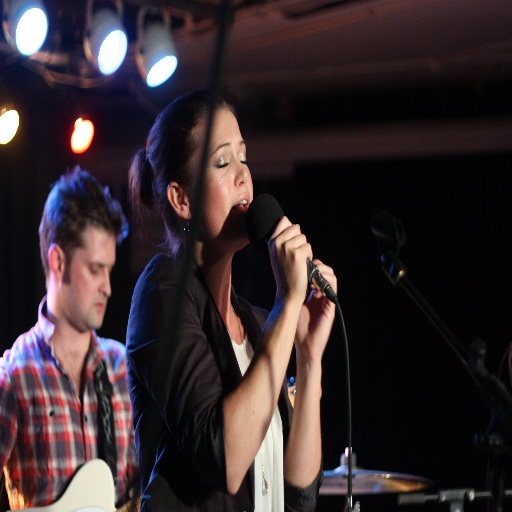hand: (293, 259, 338, 362), (267, 222, 319, 305)
